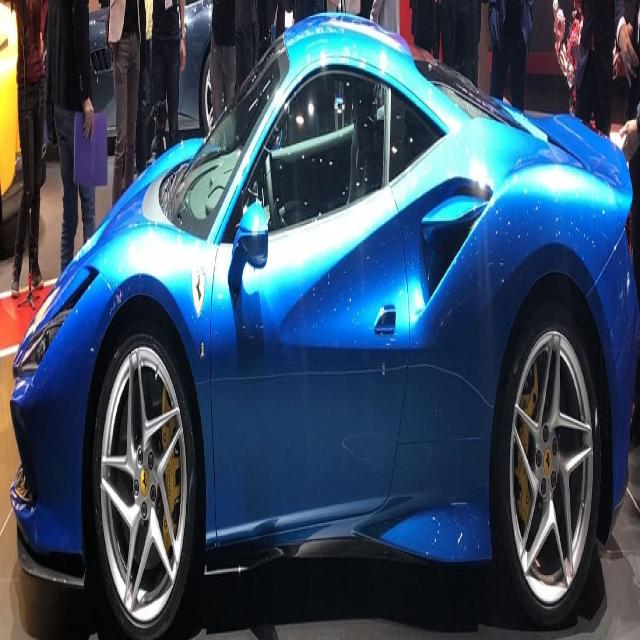blue: (11, 11, 635, 638)
